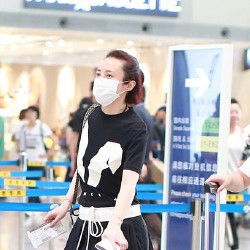mask: (85, 70, 127, 109)
